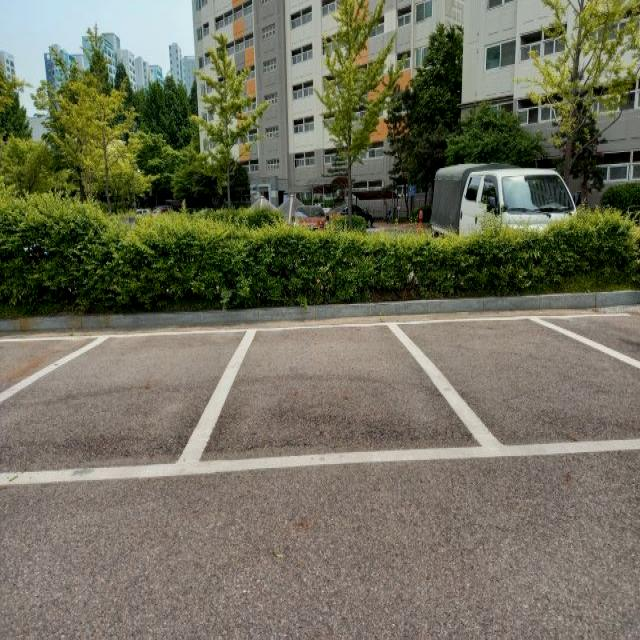free: (192, 319, 503, 467), (0, 328, 253, 471), (396, 314, 639, 457)
